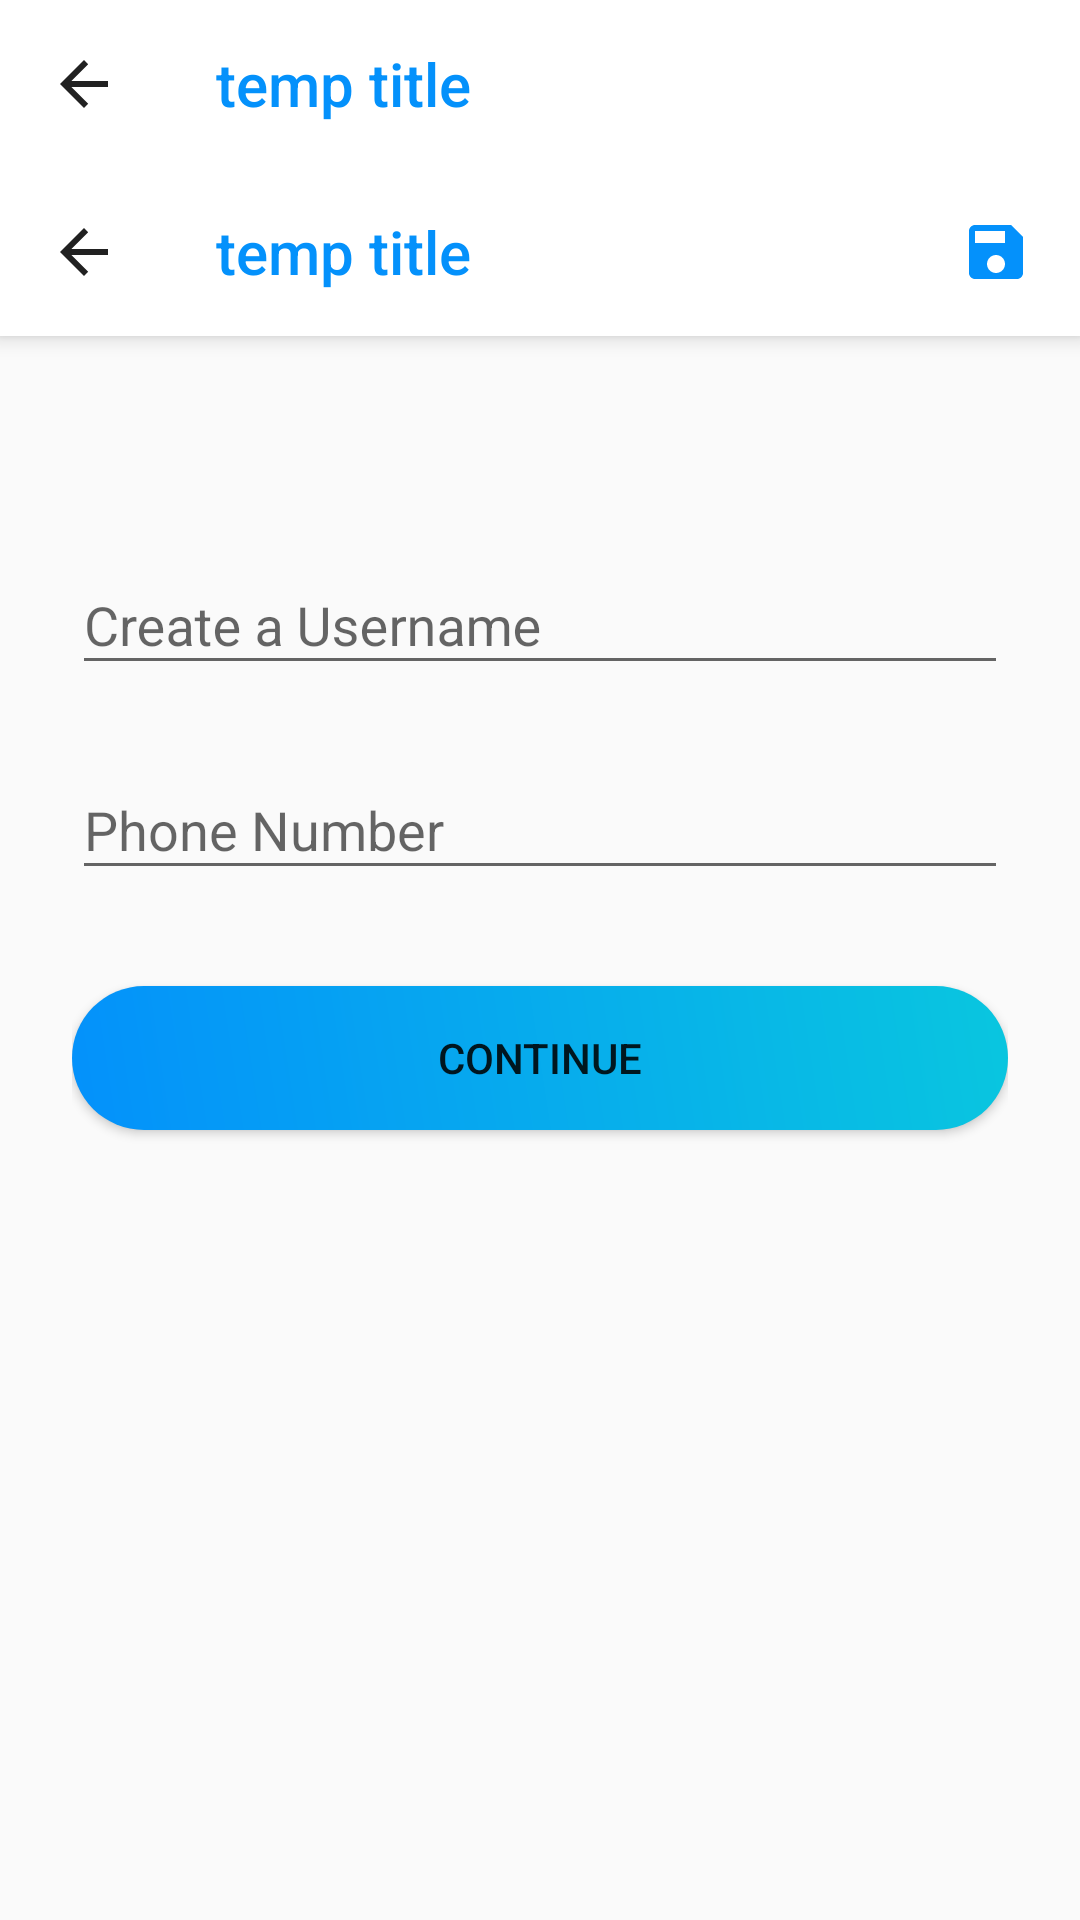

Locate icon controls on the screen. Image size 1080px×1920px, boxes as (x1, y1, x2, y2).
save: (969, 225, 1023, 279)
